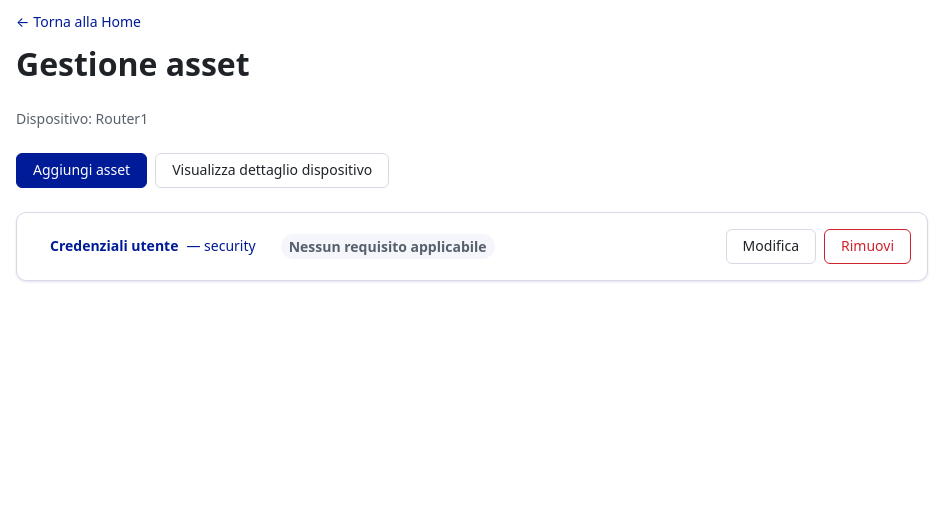
Test: DeviceAssetManagementPage › shows 'Nessuno' when the asset has no derived requirements
This screenshot has width=945, height=521.
Click the button "Credenziali utente — security" at (153, 246), box 33,229 -> 273,264
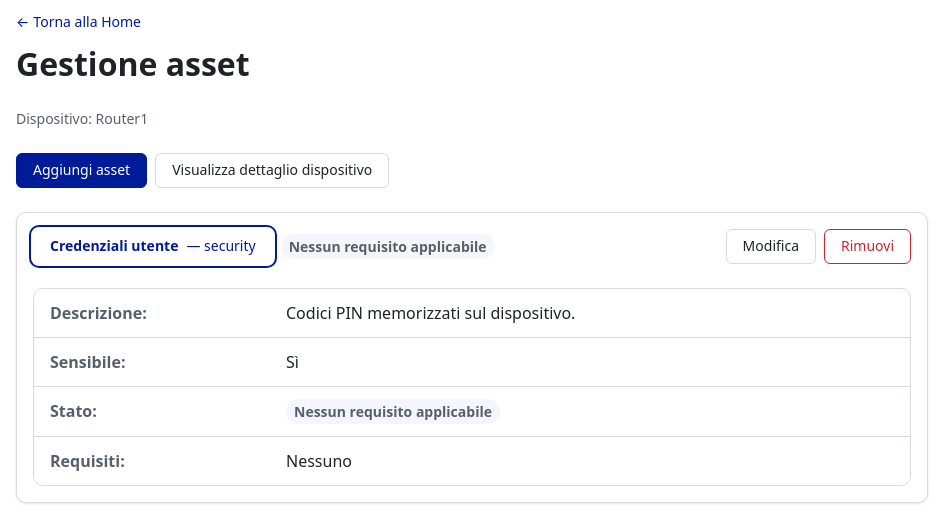
Expected: the text "Nessuno" is shown, 286,450 -> 352,472
